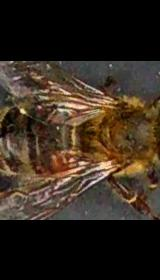varroa_mite: (40, 148, 70, 174)
